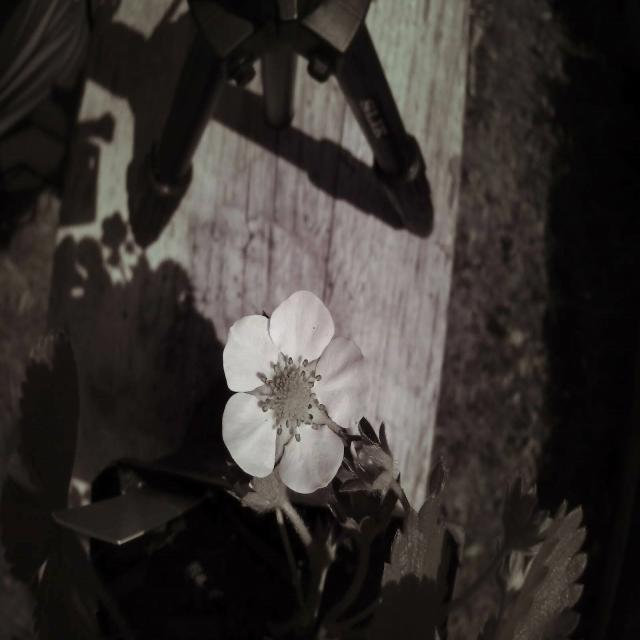flower: (219, 290, 384, 498)
